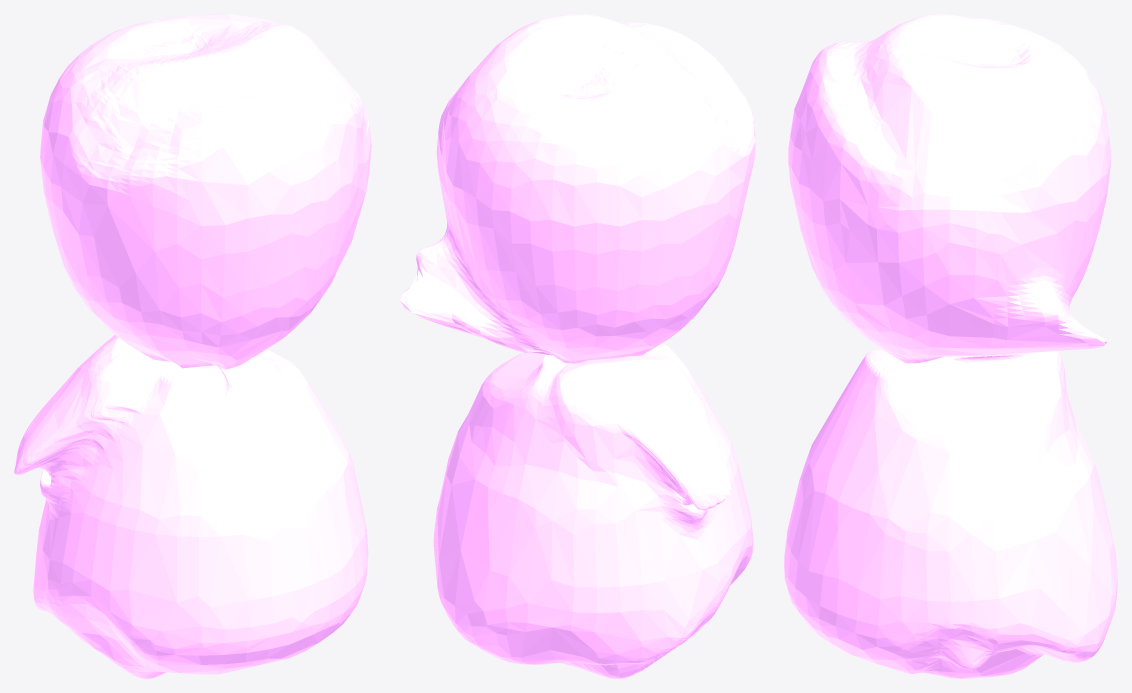
Rendered from neb-etacar.glb.
3 views of the same model, side by side, from view 1: azimuth 30°, elevation 25°; view 2: azimuth 150°, elevation 25°; view 3: azimuth 270°, elevation 25° (orthographic). The views are drawn at different scales.
Visible parts, largest first — view 1: Eta Carinae Homunculus Nebula.stl; view 2: Eta Carinae Homunculus Nebula.stl; view 3: Eta Carinae Homunculus Nebula.stl.
Part boxes in pixels (left/top/right/bottom): Eta Carinae Homunculus Nebula.stl: left=14, top=14, right=371, bottom=678; Eta Carinae Homunculus Nebula.stl: left=400, top=14, right=755, bottom=678; Eta Carinae Homunculus Nebula.stl: left=784, top=14, right=1117, bottom=678.
Bounding box in the file's own units: 4 × 7.57 × 3.62.
